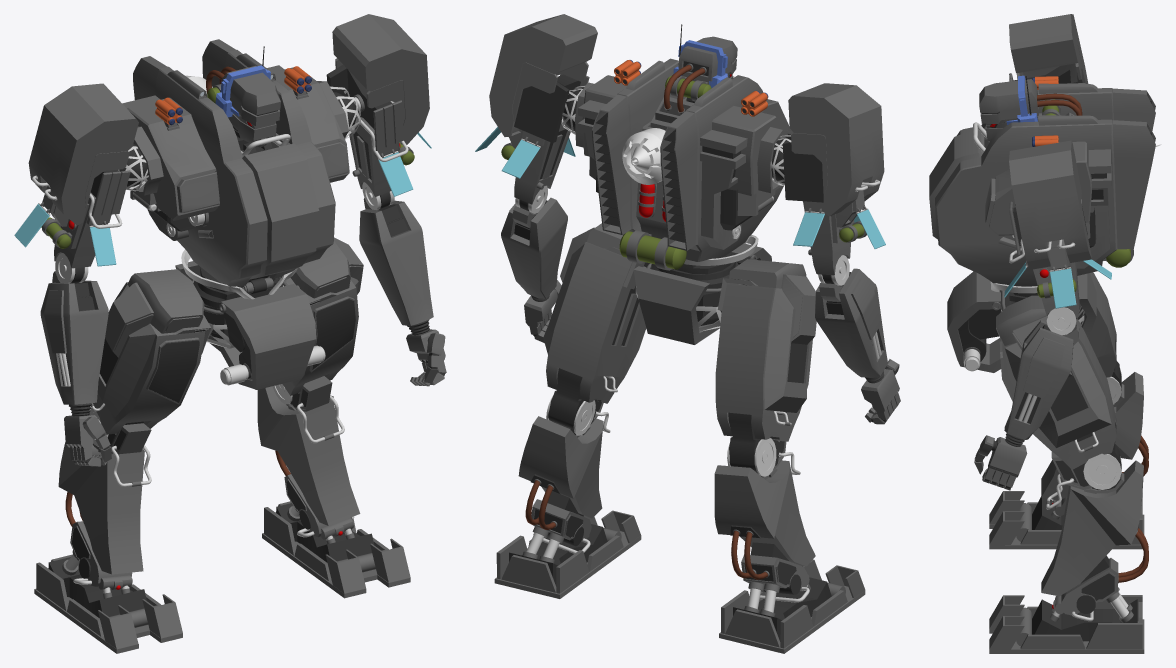
The model's file is BATLE_MECHA(MATERIAL_COLORS).fbx.
3 renders of one model, left to right at view 1: azimuth 30°, elevation 25°; view 2: azimuth 150°, elevation 25°; view 3: azimuth 270°, elevation 25°, orthographic. The views are drawn at different scales.
Visible parts, largest first — view 1: Gundan Worker; view 2: Gundan Worker; view 3: Gundan Worker.
Boxes of the visible parts, <box> form: Gundan Worker: <box>14,14,446,653</box>; Gundan Worker: <box>475,14,900,653</box>; Gundan Worker: <box>929,14,1161,653</box>.
Bounding box in the file's own units: 1057 × 1373 × 557.
